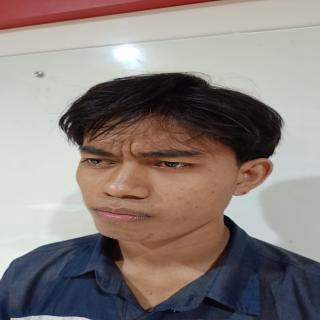Marah: (75, 108, 222, 246)
